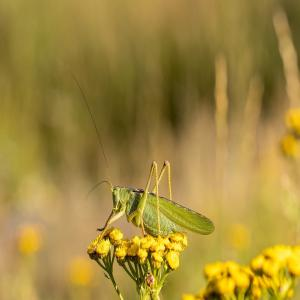locust: (90, 111, 223, 288)
